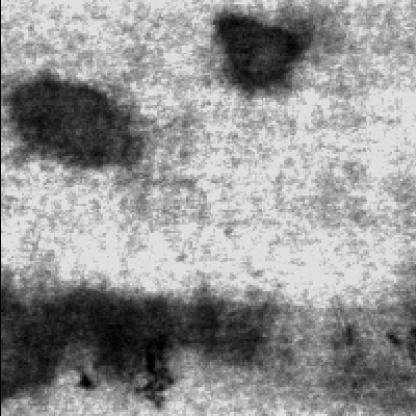patches: (0, 284, 216, 401), (0, 69, 146, 172), (208, 6, 310, 102), (140, 291, 270, 364)
